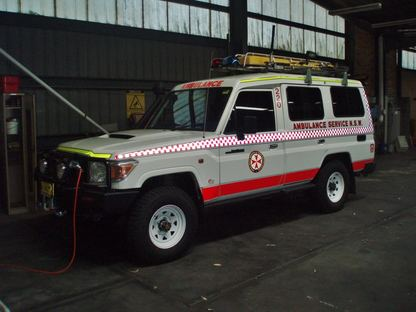ambulance: (30, 50, 376, 259)
